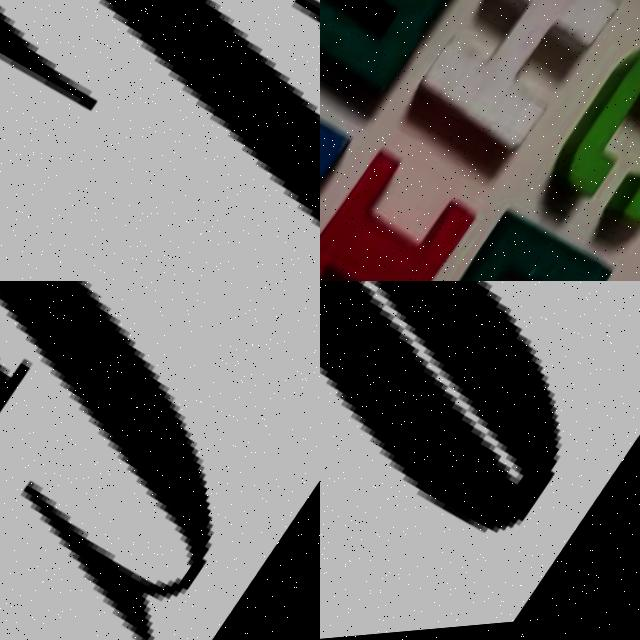C: (552, 31, 640, 249)
D: (415, 210, 630, 281)
G: (0, 281, 320, 640)
H: (396, 0, 637, 188)
I: (320, 149, 492, 281)
M: (320, 0, 501, 117)
Q: (320, 281, 640, 594)
Z: (0, 0, 320, 281)
